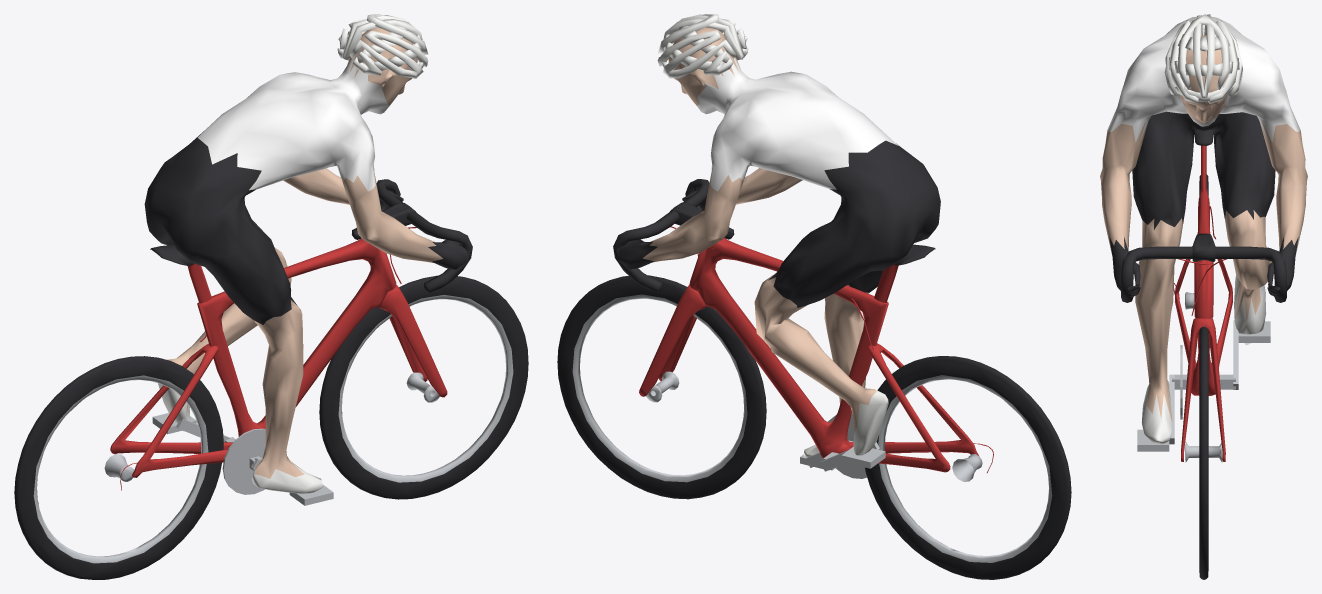
Rendered from cyclist.glb.
The picture shows the model from 3 angles, left to right: view 1: azimuth 30°, elevation 25°; view 2: azimuth 150°, elevation 25°; view 3: azimuth 270°, elevation 25°; orthographic projection. The views are drawn at different scales.
Visible parts, largest first — view 1: cyclist; view 2: cyclist; view 3: cyclist.
Part boxes in pixels (bbox=[...]): cyclist: bbox=[14, 14, 528, 579]; cyclist: bbox=[557, 14, 1071, 579]; cyclist: bbox=[1100, 14, 1307, 579].
Size of the model in its own units: 1.68 by 1.56 by 0.5526.
